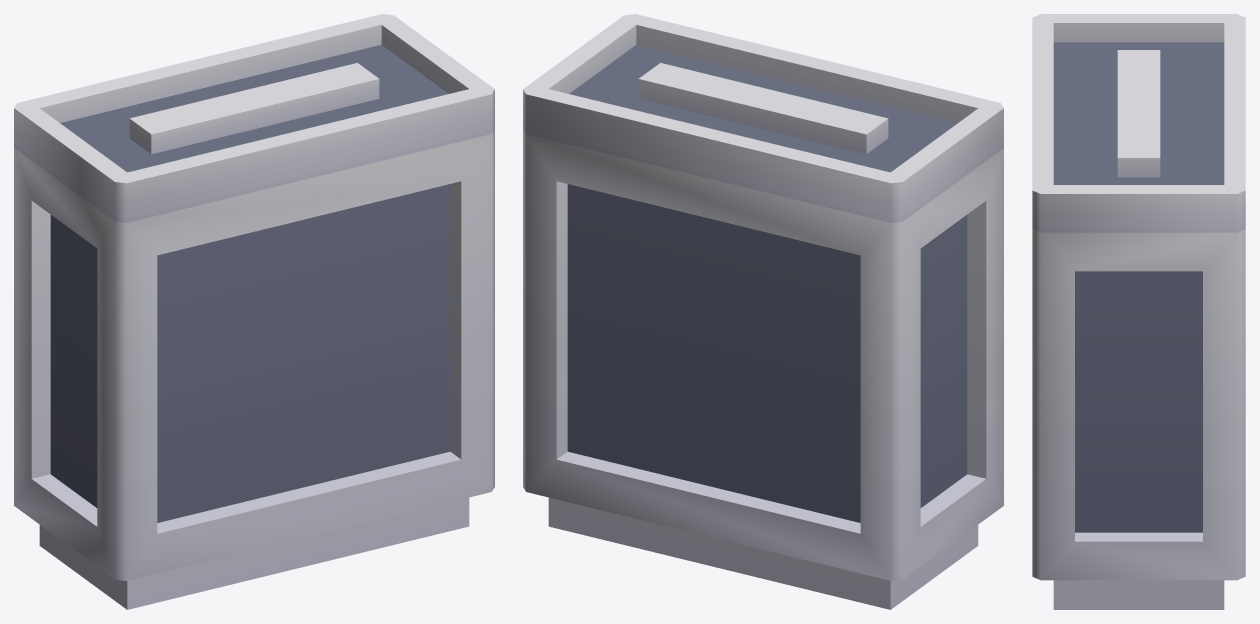
File: low-detail-building-wide-a.glb
The picture shows the model from 3 angles, left to right: view 1: azimuth 30°, elevation 25°; view 2: azimuth 150°, elevation 25°; view 3: azimuth 270°, elevation 25°; orthographic projection. The views are drawn at different scales.
Parts seen in each view (by area): view 1: low-detail-building-wide-a; view 2: low-detail-building-wide-a; view 3: low-detail-building-wide-a.
Boxes of the visible parts, bbox=[...] form: low-detail-building-wide-a: bbox=[14, 14, 494, 609]; low-detail-building-wide-a: bbox=[523, 14, 1003, 609]; low-detail-building-wide-a: bbox=[1032, 14, 1245, 609].
Bounding box in the file's own units: 1 × 1.1 × 0.5.
1 material, 1 textured.
